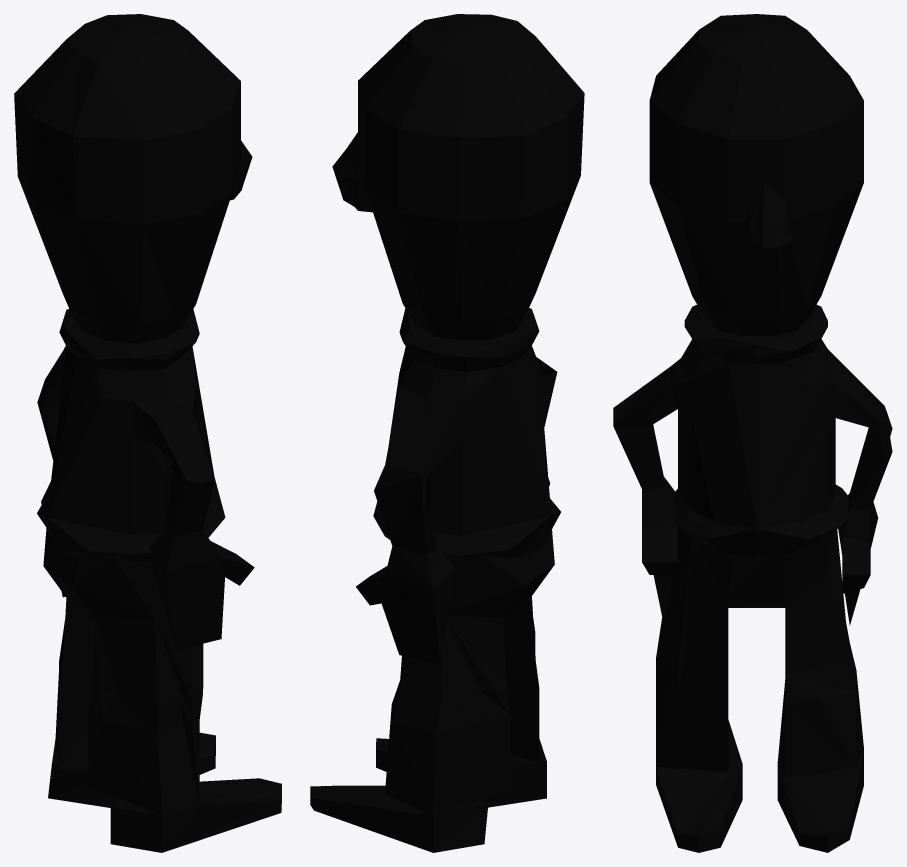
The model's file is PipShd.glb.
3 views of the same model, side by side, from view 1: azimuth 30°, elevation 25°; view 2: azimuth 150°, elevation 25°; view 3: azimuth 270°, elevation 25° (orthographic). The views are drawn at different scales.
Visible parts, largest first — view 1: PipShd; view 2: PipShd; view 3: PipShd.
Boxes of the visible parts, x1,y1,x2,y2 form: PipShd: (14, 14, 281, 852); PipShd: (310, 14, 584, 852); PipShd: (613, 14, 892, 852).
Size of the model in its own units: 34.32 by 116 by 37.9.
Materials: 1 (1 with a texture image).
